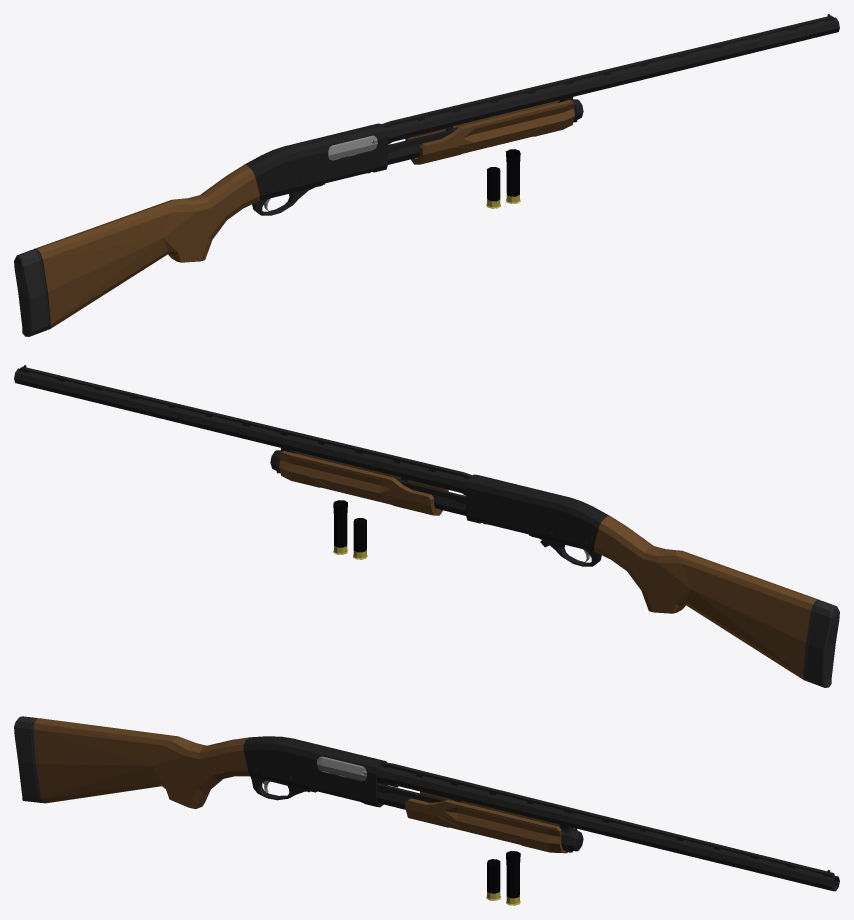
File: remington_870.glb
3 renders of one model, top to bottom at view 1: azimuth 30°, elevation 25°; view 2: azimuth 150°, elevation 25°; view 3: azimuth 330°, elevation 25°, orthographic.
Parts seen in each view (by area): view 1: rem870 stock_9, rem870 27in barrel _0, rem870 receiver_1, rem870 pump forend_8, 1270n1_3, rem870 bolt_7; view 2: rem870 stock_9, rem870 27in barrel _0, rem870 receiver_1, rem870 pump forend_8, 1270n1_3; view 3: rem870 stock_9, rem870 27in barrel _0, rem870 receiver_1, rem870 pump forend_8, 1270n1_3, rem870 bolt_7, 12x70 n1_2.
Boxes of the visible parts, x1,y1,x2,y2 form: rem870 stock_9: (14,165,259,336); rem870 27in barrel _0: (377,14,839,143); rem870 receiver_1: (244,99,583,215); rem870 pump forend_8: (340,99,574,164); 1270n1_3: (505,149,520,203); rem870 bolt_7: (328,135,377,160); rem870 stock_9: (594,516,839,687); rem870 27in barrel _0: (14,365,472,494); rem870 receiver_1: (270,450,609,566); rem870 pump forend_8: (279,450,465,515); 1270n1_3: (333,500,347,554); rem870 stock_9: (14,716,250,808); rem870 27in barrel _0: (377,762,839,891); rem870 receiver_1: (243,736,583,852); rem870 pump forend_8: (330,773,573,853); 1270n1_3: (506,850,520,905); rem870 bolt_7: (317,756,366,780); 12x70 n1_2: (486,859,500,900).
Bounding box in the file's own units: 12.32 × 1.82 × 0.4632.
